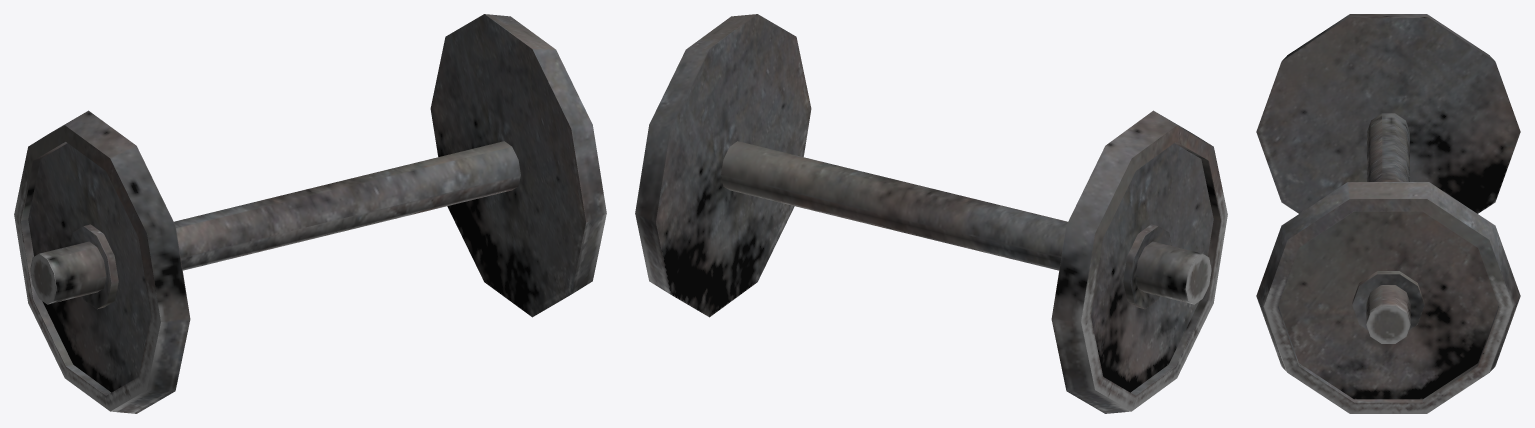
Rendered from Wheel.fbx.
The picture shows the model from 3 angles, left to right: view 1: azimuth 30°, elevation 25°; view 2: azimuth 150°, elevation 25°; view 3: azimuth 270°, elevation 25°; orthographic projection. The views are drawn at different scales.
Visible parts, largest first — view 1: Wheel; view 2: Wheel; view 3: Wheel.
Part boxes in pixels (bbox=[...]): Wheel: bbox=[14, 14, 606, 413]; Wheel: bbox=[635, 14, 1227, 413]; Wheel: bbox=[1256, 14, 1520, 413].
Bounding box in the file's own units: 224 × 108 × 113.
